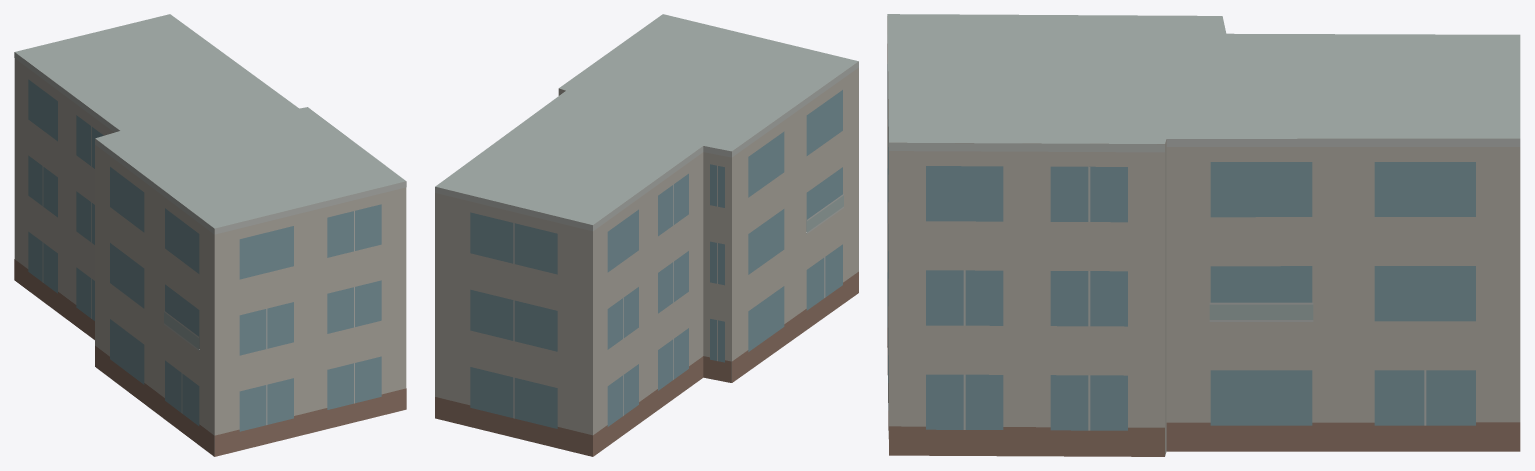
The model's file is survey-upis-32718342.glb.
3 renders of one model, left to right at view 1: azimuth 30°, elevation 25°; view 2: azimuth 150°, elevation 25°; view 3: azimuth 270°, elevation 25°, orthographic. The views are drawn at different scales.
Visible parts, largest first — view 1: survey-upis-32718342.tmp; view 2: survey-upis-32718342.tmp; view 3: survey-upis-32718342.tmp.
Boxes of the visible parts, x1,y1,x2,y2 form: survey-upis-32718342.tmp: [14, 14, 406, 456]; survey-upis-32718342.tmp: [435, 14, 858, 456]; survey-upis-32718342.tmp: [887, 14, 1520, 456].
Size of the model in its own units: 8.19 by 9.15 by 16.8.
